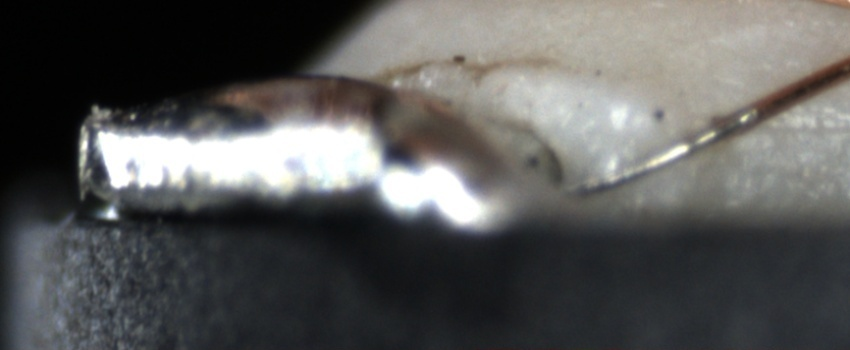DL: (756, 96, 849, 160)
TS: (554, 109, 757, 196)
